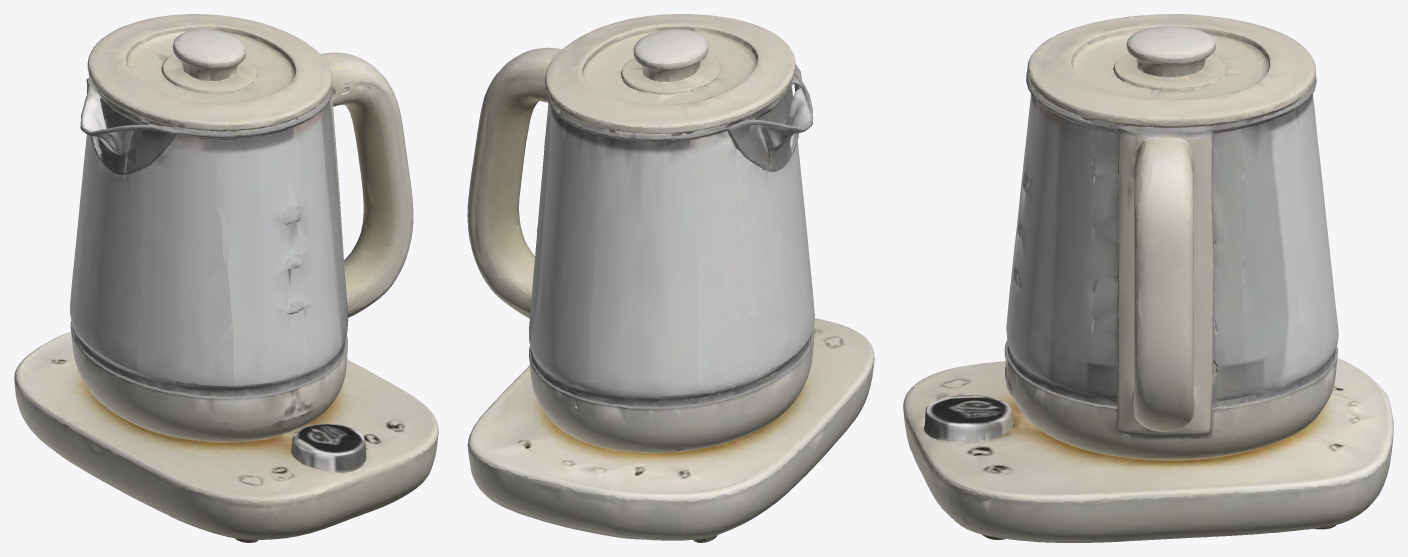
The model's file is bear-kettle.glb.
3 views of the same model, side by side, from view 1: azimuth 30°, elevation 25°; view 2: azimuth 150°, elevation 25°; view 3: azimuth 270°, elevation 25° (orthographic). The views are drawn at different scales.
Parts seen in each view (by area): view 1: world; view 2: world; view 3: world.
Part boxes in pixels (bbox=[...]): world: bbox=[14, 14, 438, 542]; world: bbox=[467, 14, 874, 542]; world: bbox=[903, 14, 1393, 542].
Size of the model in its own units: 0.2 by 0.24 by 0.24.
Materials: 1 (1 with a texture image).
